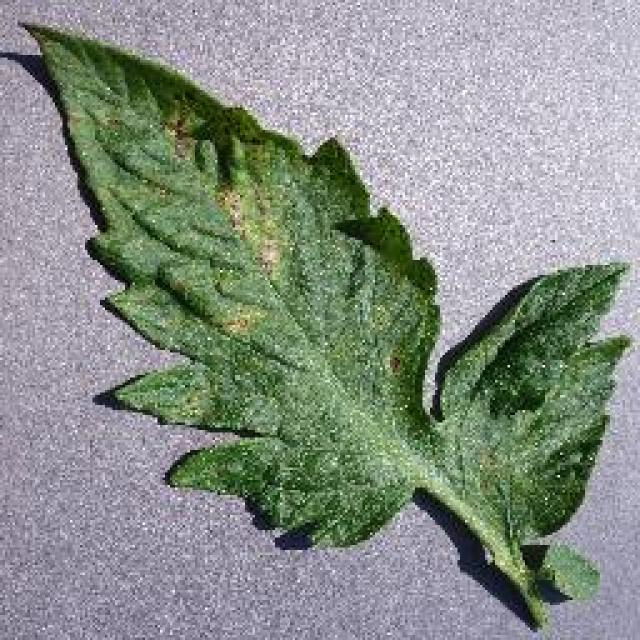Tom_Septoria_leaf_spot: (135, 96, 289, 292)
